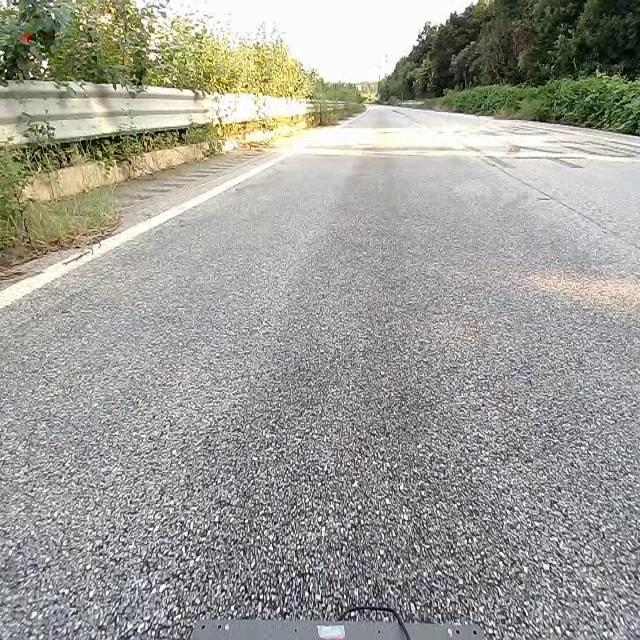Lane: (0, 140, 304, 311), (0, 146, 297, 309)
